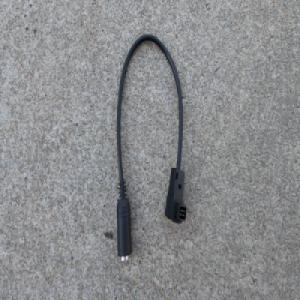Wire: (114, 32, 188, 264)
